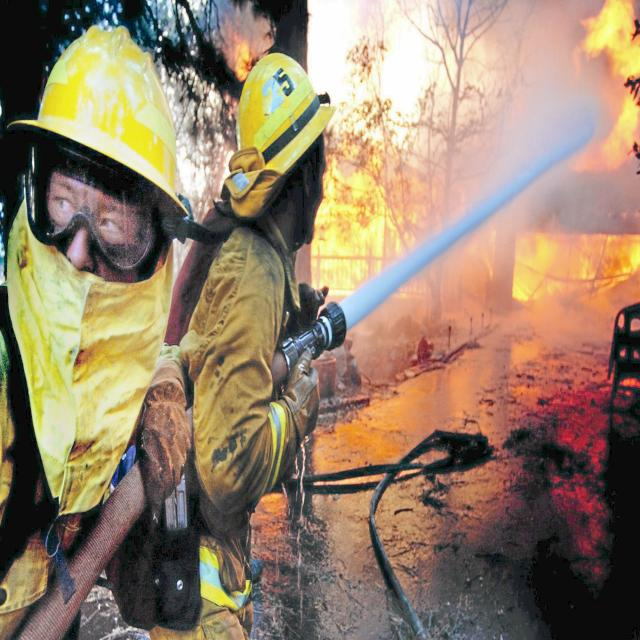api: (307, 159, 396, 306), (573, 1, 640, 181), (624, 228, 640, 287)
